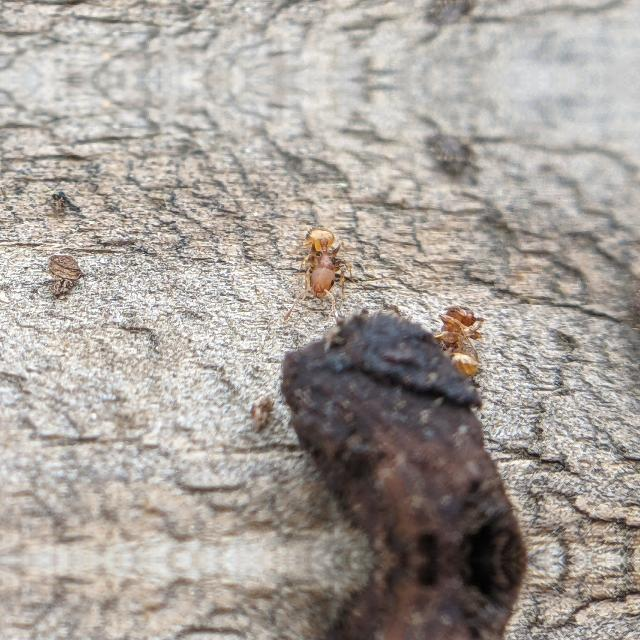Temnothorax: (280, 218, 366, 304), (426, 297, 498, 383)
